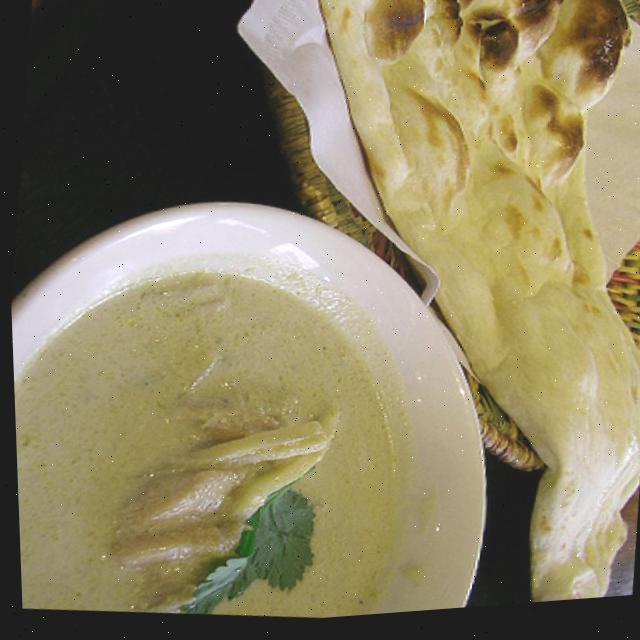牛肉菜式: (6, 163, 524, 640)
